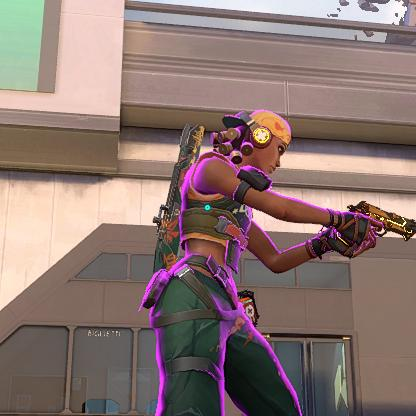enemyBody: (182, 178, 241, 282)
enemyHead: (226, 96, 289, 176)
